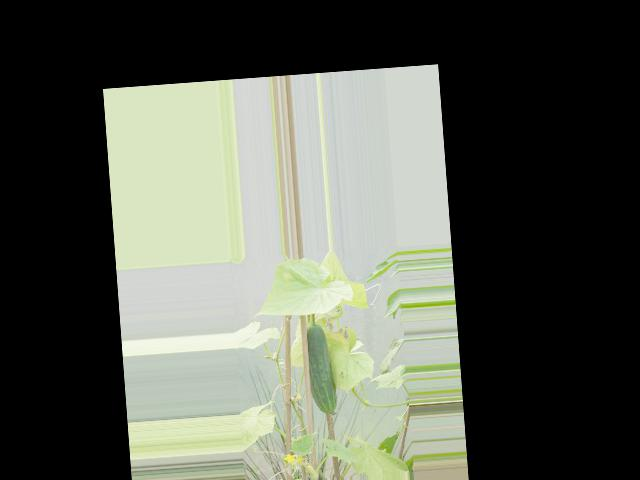cucumber: (305, 323, 338, 416)
